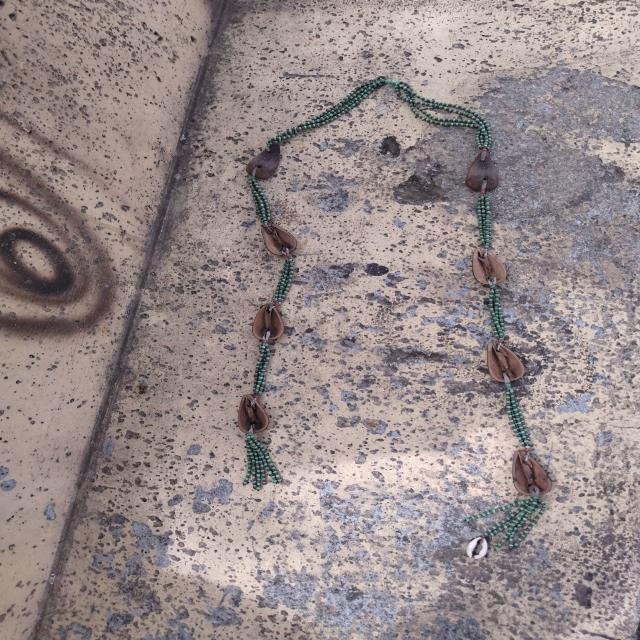facedown: (462, 144, 509, 201), (241, 136, 293, 184)
faceup: (507, 445, 562, 507), (479, 337, 532, 389), (464, 245, 518, 293), (245, 297, 292, 348), (230, 391, 277, 436), (256, 217, 306, 259)
